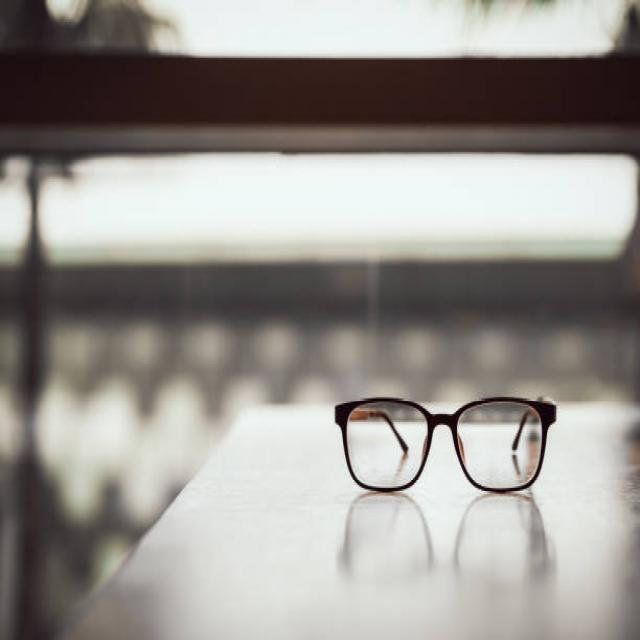glasses: (306, 344, 578, 534)
